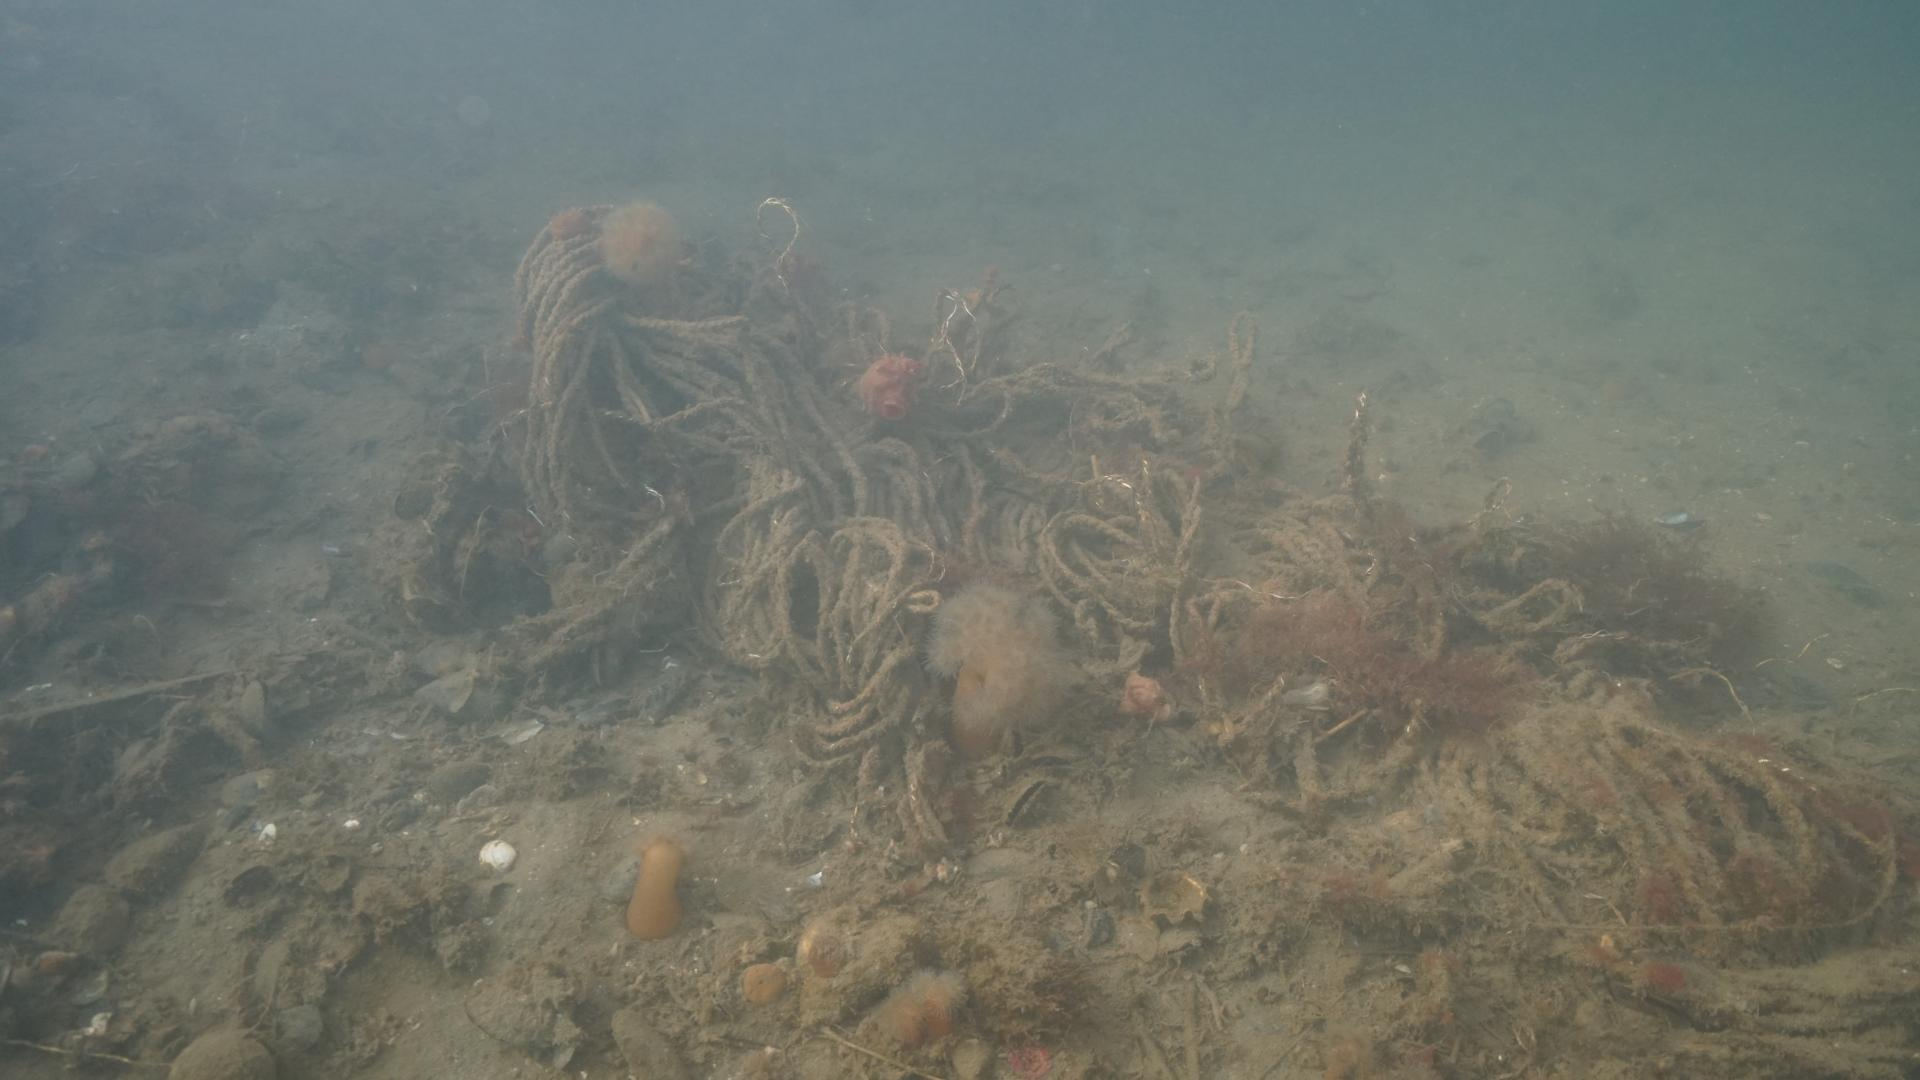bundle of ropes: (398, 193, 1920, 939)
